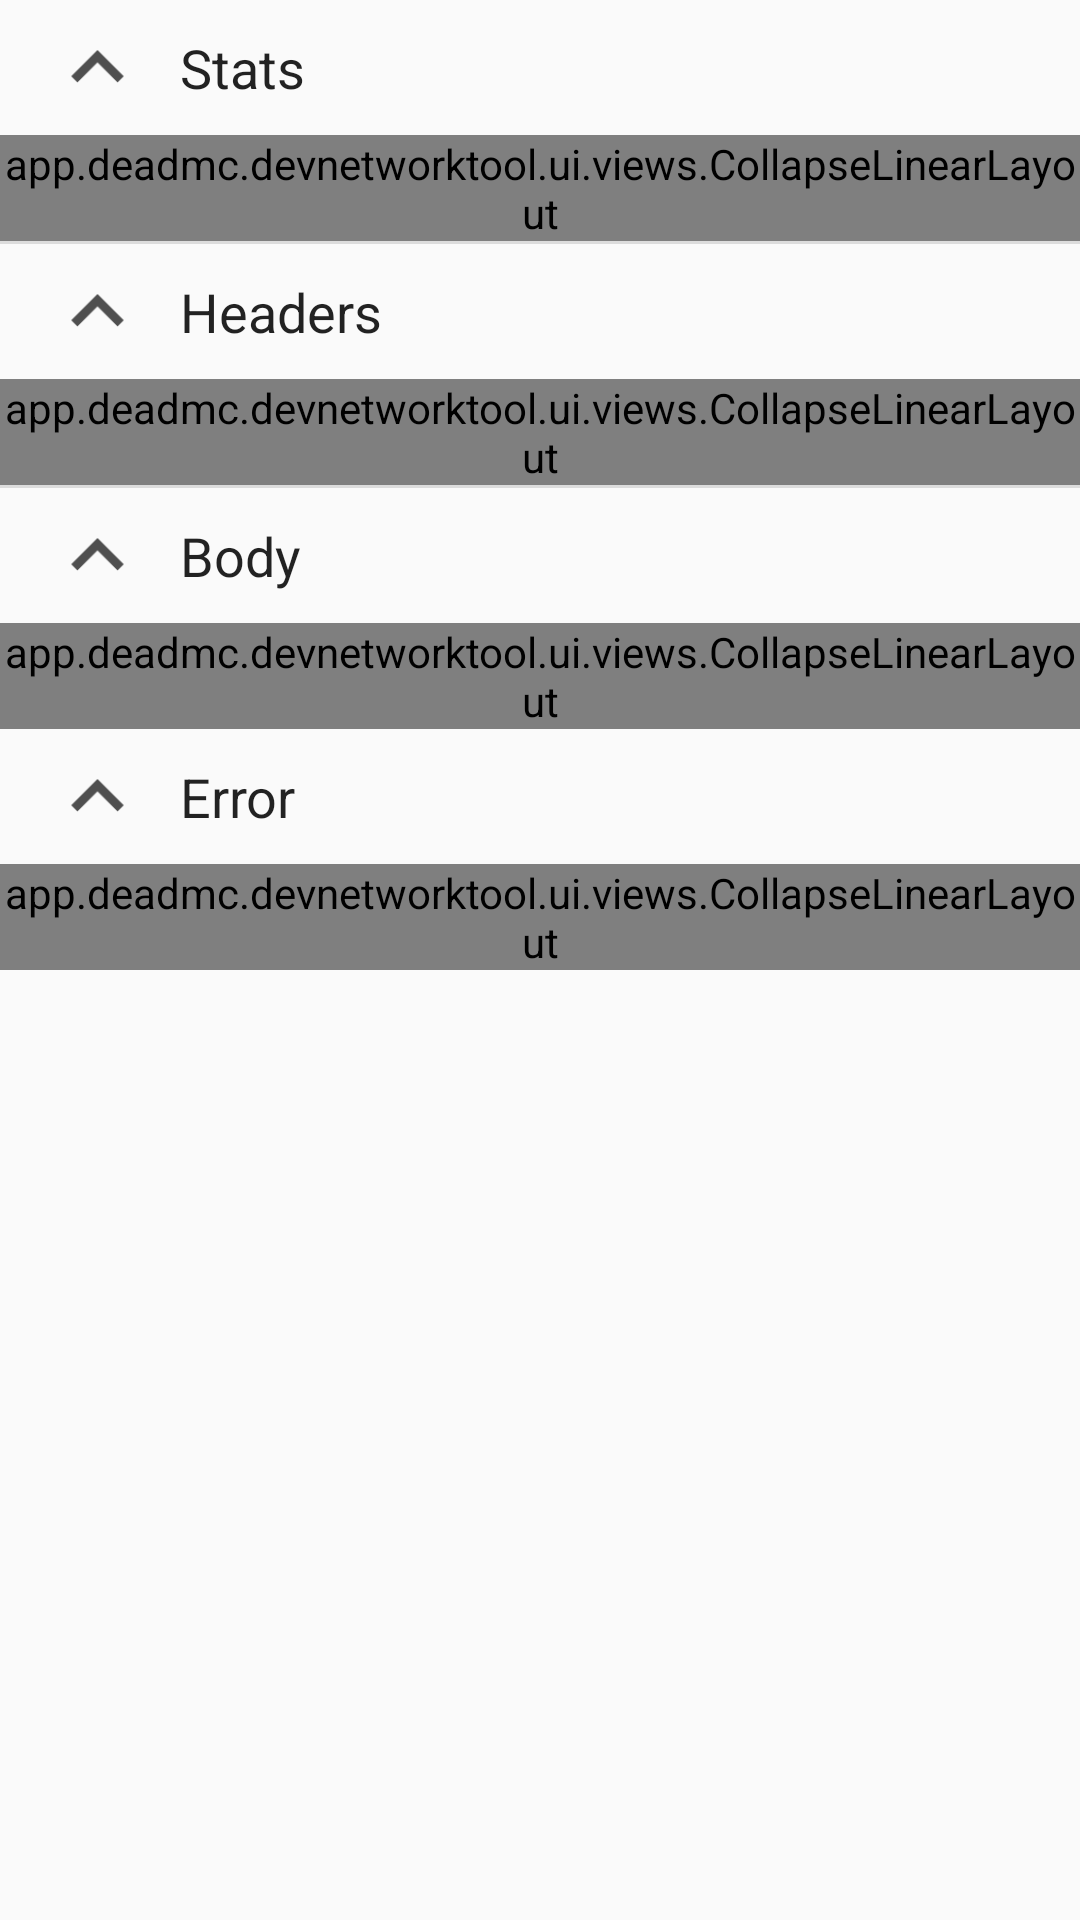

Where icons sit on this 1080 x 1920 app screen, as Rect(x1, y1, x2, y2):
keyboard arrow up: Rect(71, 50, 124, 83), Rect(71, 294, 124, 327), Rect(71, 538, 124, 571), Rect(71, 779, 124, 812)
